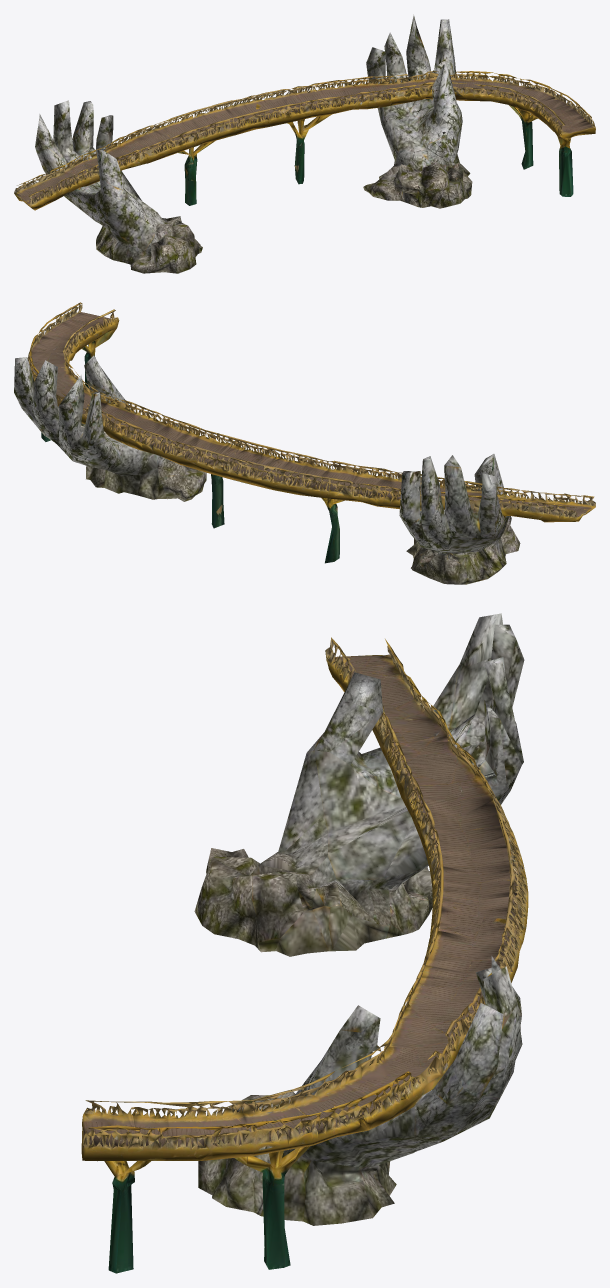
The model's file is cau-vang.glb.
The picture shows the model from 3 angles, top to bottom: view 1: azimuth 30°, elevation 25°; view 2: azimuth 150°, elevation 25°; view 3: azimuth 270°, elevation 25°; orthographic projection. The views are drawn at different scales.
Size of the model in its own units: 0.9989 by 0.2405 by 0.381.
1 material, 1 textured.
